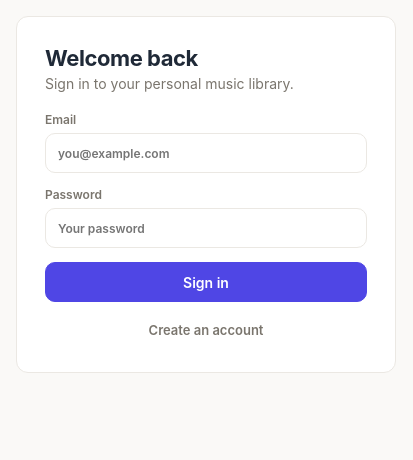
it: Login › starts account creation and displays the confirmation prompt
In the field labelled "Email": point(206, 153) left=45, top=133, right=367, bottom=173, type "new@example.com"
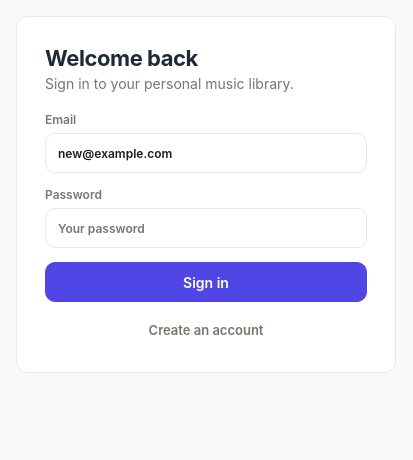
In the password field labelled "Password": point(206, 228) left=45, top=208, right=367, bottom=248, type "a-password"
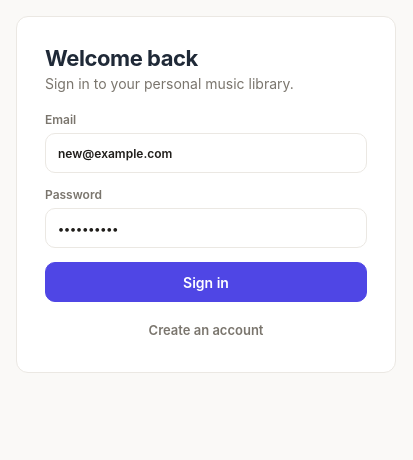
Click the button "Create an account": point(206, 330) left=45, top=316, right=367, bottom=344
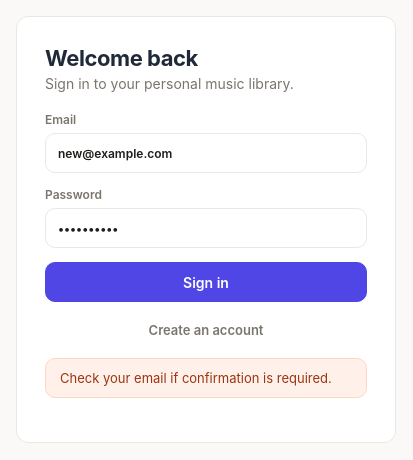
Check: the text "Check your email if confirmation is required." is shown, box left=45, top=358, right=367, bottom=398
